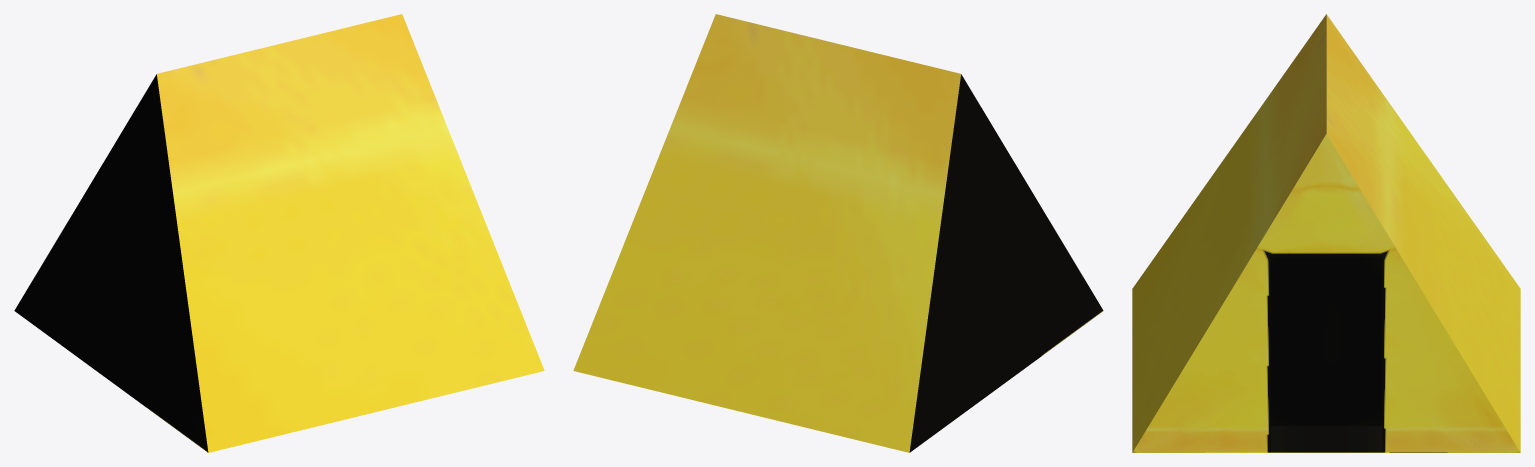
File: TiendaCampana.fbx
The picture shows the model from 3 angles, left to right: view 1: azimuth 30°, elevation 25°; view 2: azimuth 150°, elevation 25°; view 3: azimuth 270°, elevation 25°; orthographic projection.
Parts seen in each view (by area): view 1: Cube; view 2: Cube; view 3: Cube.
Boxes of the visible parts, left/top/right/bottom form: Cube: left=14, top=14, right=544, bottom=452; Cube: left=573, top=14, right=1103, bottom=452; Cube: left=1132, top=14, right=1520, bottom=452.
Bounding box in the file's own units: 388 × 327 × 388.
Materials: 1 (1 with a texture image).
